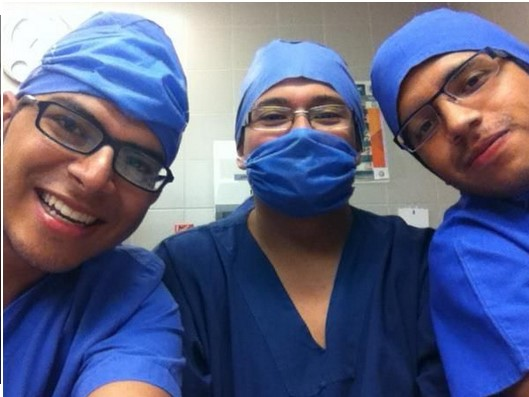face_no_mask: (3, 14, 186, 276), (376, 24, 529, 187)
face_with_mask: (233, 37, 366, 218)
